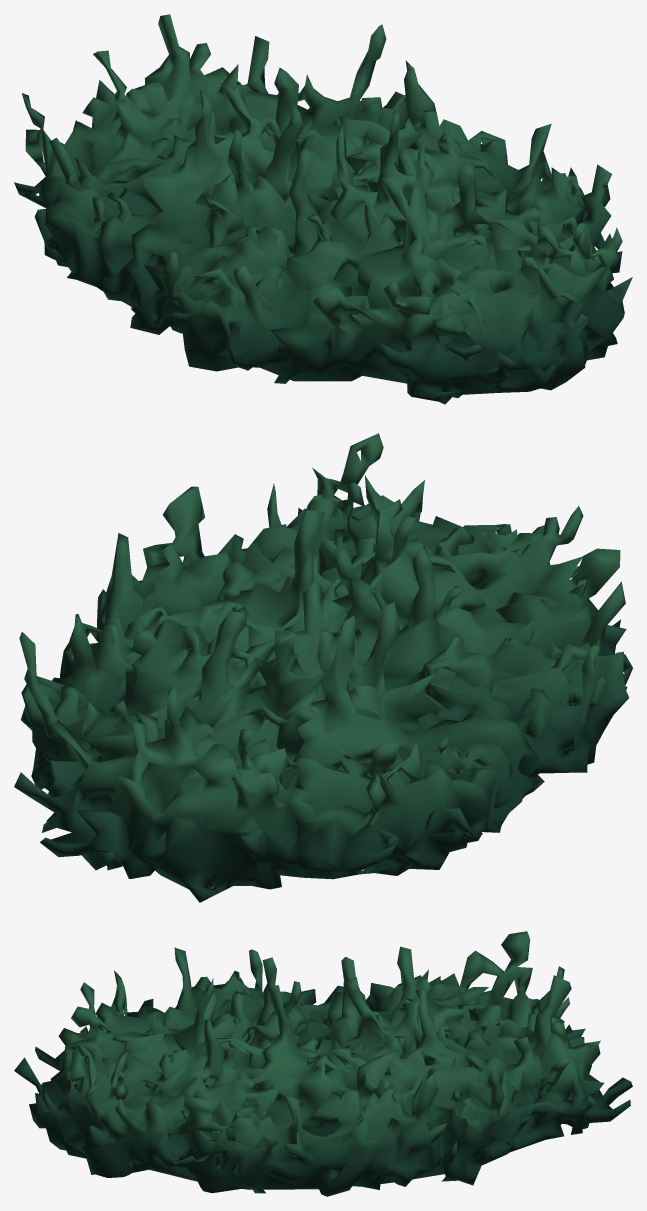
Rendered from sacred-shrub.glb.
3 renders of one model, top to bottom at view 1: azimuth 30°, elevation 25°; view 2: azimuth 150°, elevation 25°; view 3: azimuth 270°, elevation 25°, orthographic. The views are drawn at different scales.
Visible parts, largest first — view 1: sacred-shrub; view 2: sacred-shrub; view 3: sacred-shrub.
Boxes of the visible parts, box(x1,y1,x2,y2) form: sacred-shrub: box(14, 14, 632, 404); sacred-shrub: box(14, 433, 632, 902); sacred-shrub: box(14, 931, 632, 1196).
Size of the model in its own units: 0.0169 by 0.0074 by 0.0256.
